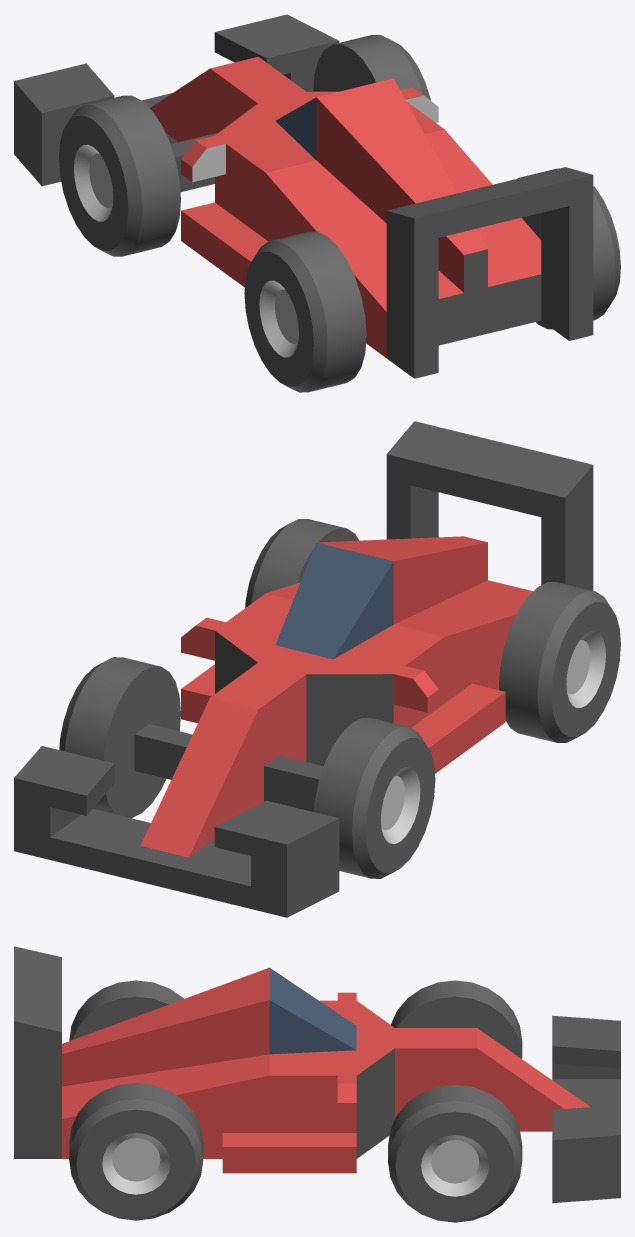
Rendered from carFormula.fbx.
The picture shows the model from 3 angles, top to bottom: view 1: azimuth 30°, elevation 25°; view 2: azimuth 150°, elevation 25°; view 3: azimuth 270°, elevation 25°; orthographic projection. The views are drawn at different scales.
Visible parts, largest first — view 1: body 2, wheelBackLeft 2, wheelFrontLeft 2, wheelFrontRight 2, wheelBackRight 2; view 2: body 2, wheelBackLeft 2, wheelFrontLeft 2, wheelFrontRight 2, wheelBackRight 2; view 3: body 2, wheelFrontRight 2, wheelBackRight 2, wheelFrontLeft 2, wheelBackLeft 2.
Part boxes in pixels (x1=…): body 2: x1=14, y1=14, x2=593, y2=378; wheelBackLeft 2: x1=244, y1=231, x2=366, y2=392; wheelFrontLeft 2: x1=59, y1=95, x2=180, y2=256; wheelFrontRight 2: x1=313, y1=35, x2=430, y2=100; wheelBackRight 2: x1=517, y1=168, x2=620, y2=329; body 2: x1=14, y1=421, x2=593, y2=917; wheelBackLeft 2: x1=498, y1=582, x2=620, y2=742; wheelFrontLeft 2: x1=314, y1=718, x2=435, y2=878; wheelFrontRight 2: x1=59, y1=657, x2=180, y2=818; wheelBackRight 2: x1=245, y1=519, x2=358, y2=607; body 2: x1=14, y1=946, x2=620, y2=1203; wheelFrontRight 2: x1=388, y1=1084, x2=522, y2=1222; wheelBackRight 2: x1=69, y1=1082, x2=203, y2=1220; wheelFrontLeft 2: x1=390, y1=980, x2=522, y2=1058; wheelBackLeft 2: x1=69, y1=980, x2=183, y2=1040.
Bounding box in the file's own units: 6.35 × 4.11 × 12.66.
